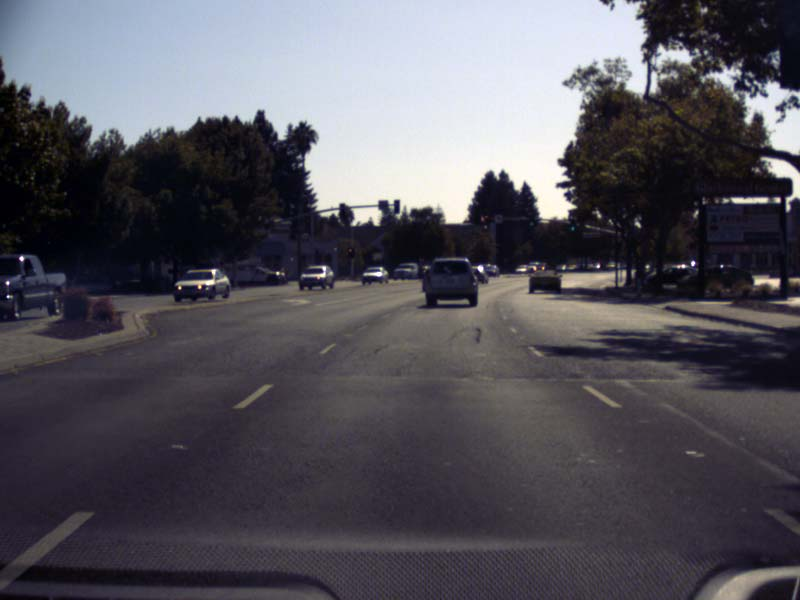Green: (569, 219, 575, 231), (529, 214, 534, 226)
Red: (484, 214, 489, 224)
Yellow: (348, 247, 354, 258)
